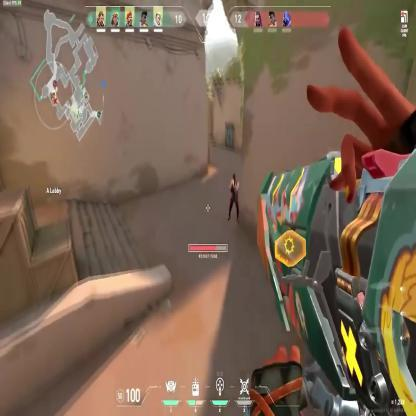enemy: (226, 173, 240, 222)
enemy_head: (232, 173, 236, 182)
